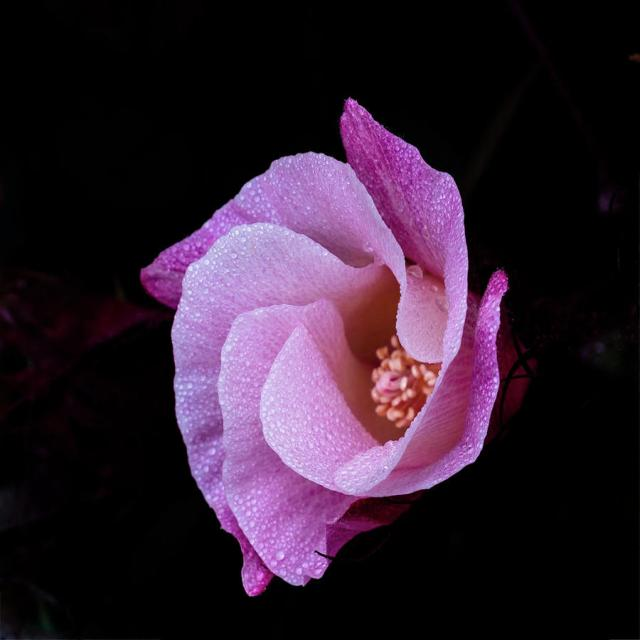Cotton Blossom: (160, 99, 521, 568)
